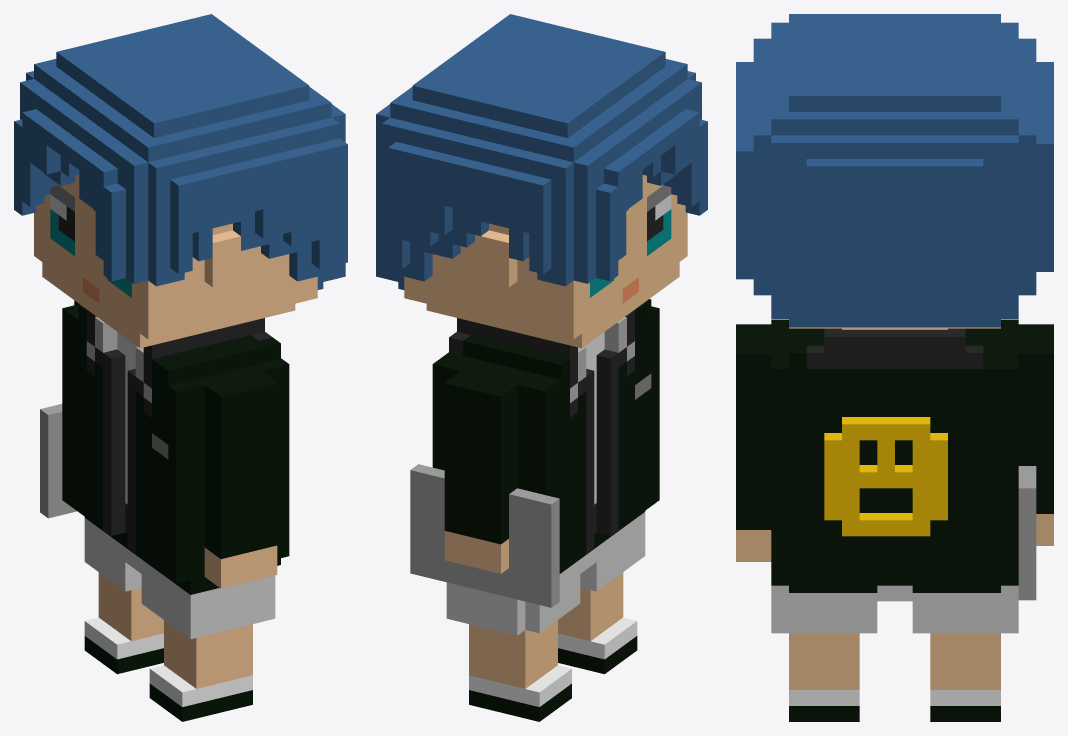
File: myfirstvox.glb
3 views of the same model, side by side, from view 1: azimuth 30°, elevation 25°; view 2: azimuth 150°, elevation 25°; view 3: azimuth 270°, elevation 25° (orthographic). The views are drawn at different scales.
Visible parts, largest first — view 1: aaa; view 2: aaa; view 3: aaa.
Boxes of the visible parts, <box> form: aaa: <box>14,14,347,721</box>; aaa: <box>376,14,707,721</box>; aaa: <box>736,14,1053,721</box>.
Size of the model in its own units: 1.7 by 4.1 by 1.8.
1 material, 1 textured.
